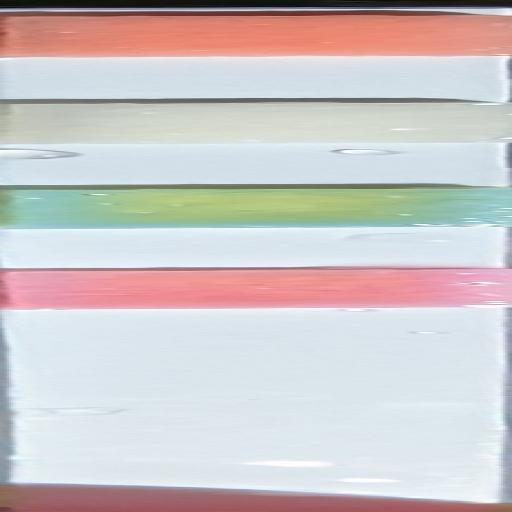pads: (0, 7, 512, 58), (0, 97, 512, 146), (0, 183, 512, 229), (0, 267, 512, 313)
